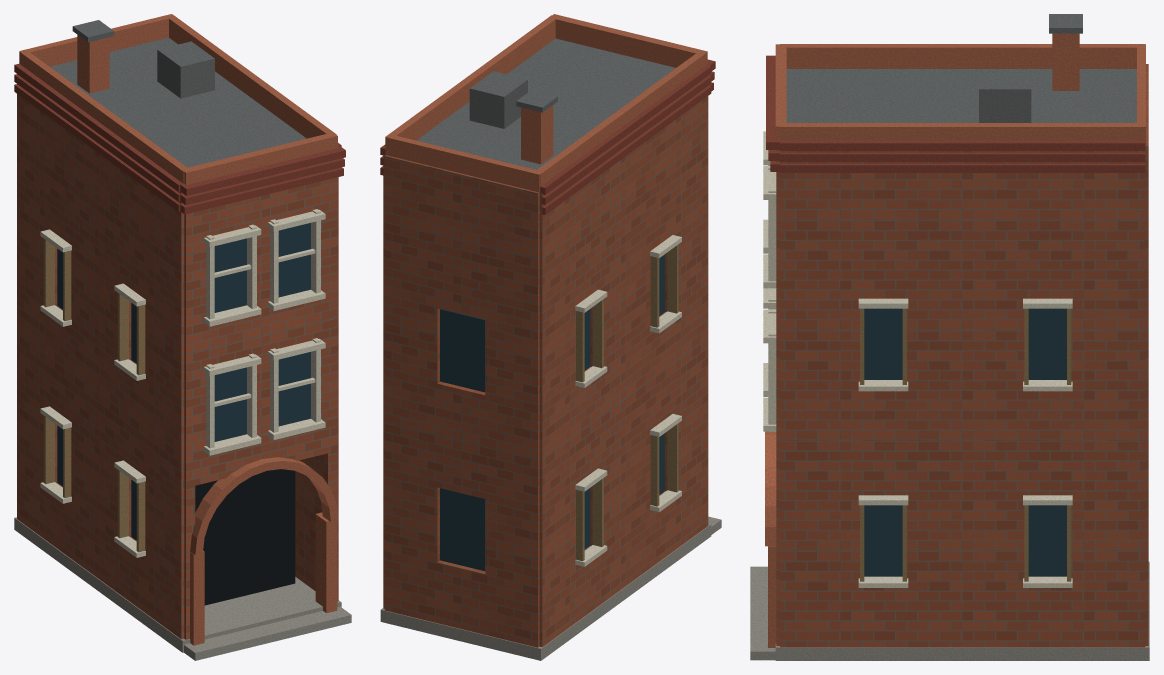
Rendered from VICT27_lod2.glb.
The picture shows the model from 3 angles, left to right: view 1: azimuth 30°, elevation 25°; view 2: azimuth 150°, elevation 25°; view 3: azimuth 270°, elevation 25°; orthographic projection. The views are drawn at different scales.
Parts seen in each view (by area): view 1: VICT27_LOD2; view 2: VICT27_LOD2; view 3: VICT27_LOD2.
Part boxes in pixels (x1,y1,x2,y2): VICT27_LOD2: (14, 14, 351, 660); VICT27_LOD2: (380, 14, 721, 660); VICT27_LOD2: (750, 14, 1149, 660).
Size of the model in its own units: 3.71 by 10.45 by 6.57.
Materials: 9 (7 with a texture image).
